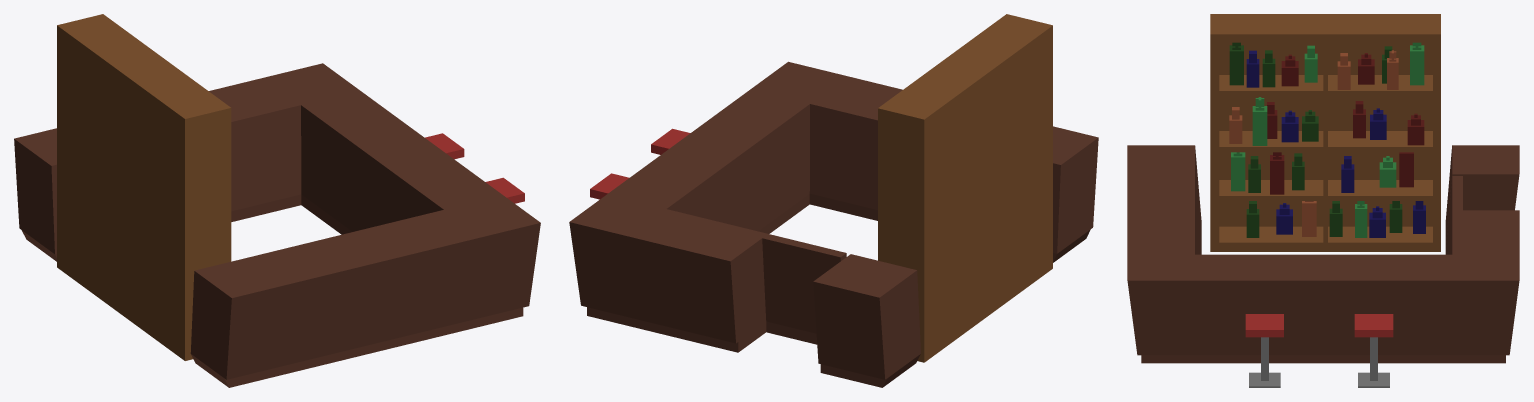
File: bancone fbx.fbx
3 renders of one model, left to right at view 1: azimuth 30°, elevation 25°; view 2: azimuth 150°, elevation 25°; view 3: azimuth 270°, elevation 25°, orthographic. The views are drawn at different scales.
Parts seen in each view (by area): view 1: bancone, scaffale, sgabello2, sgabello1; view 2: bancone, scaffale, sgabello2, sgabello1; view 3: bancone, scaffale, bottiglie, sgabello2, sgabello1.
Boxes of the visible parts, <box> form: bancone: <box>14,63,540,387</box>; scaffale: <box>57,14,231,360</box>; sgabello2: <box>425,133,464,159</box>; sgabello1: <box>485,177,524,203</box>; bancone: <box>569,61,1098,387</box>; scaffale: <box>878,14,1052,362</box>; sgabello2: <box>590,173,629,199</box>; sgabello1: <box>651,128,690,154</box>; bancone: <box>1127,145,1519,363</box>; scaffale: <box>1210,14,1440,251</box>; bottiglie: <box>1229,42,1425,237</box>; sgabello2: <box>1354,314,1393,387</box>; sgabello1: <box>1245,314,1283,387</box>.
Bounding box in the file's own units: 777 × 500 × 816.
